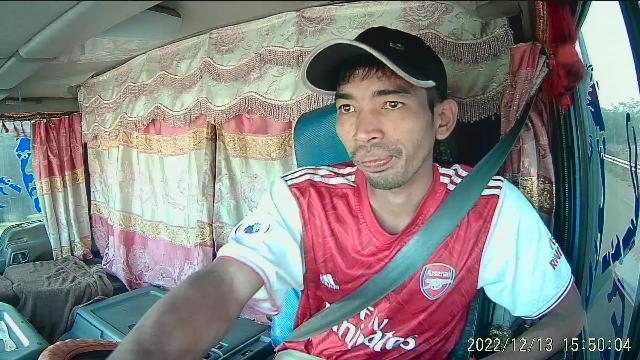SafeDriving: (376, 93, 412, 115), (331, 96, 362, 118)
Seatbelt: (292, 138, 518, 346)
